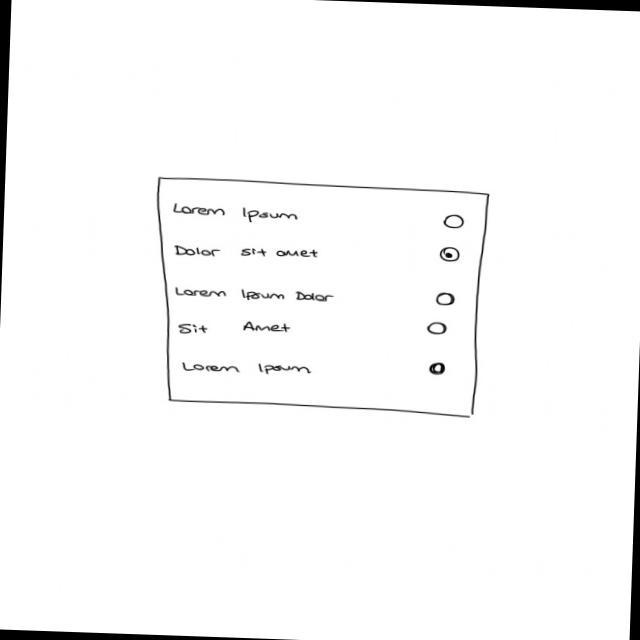container: (146, 173, 493, 419)
radio: (170, 235, 462, 268), (166, 199, 467, 230), (175, 311, 447, 344), (176, 350, 447, 382), (170, 280, 458, 310)
